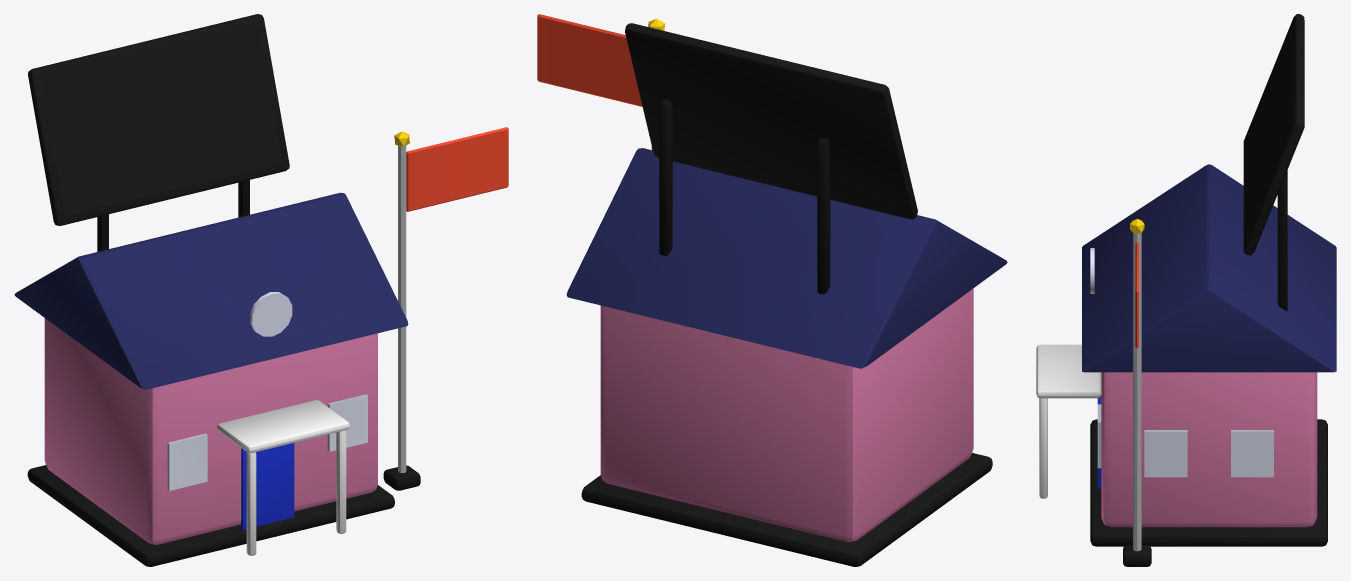
Rendered from impp-website.glb.
The picture shows the model from 3 angles, left to right: view 1: azimuth 30°, elevation 25°; view 2: azimuth 150°, elevation 25°; view 3: azimuth 270°, elevation 25°; orthographic projection. The views are drawn at different scales.
Parts seen in each view (by area): view 1: impp-website, screen, flag; view 2: impp-website, flag; view 3: impp-website, screen, flag.
Boxes of the visible parts, box(x1,y1,x2,y2) form: impp-website: box(14, 14, 420, 566); screen: box(41, 24, 282, 215); flag: box(406, 127, 508, 211); impp-website: box(566, 18, 1007, 566); flag: box(537, 14, 642, 106); impp-website: box(1036, 14, 1336, 566); screen: box(1244, 23, 1291, 242); flag: box(1135, 242, 1138, 347).
Size of the model in its own units: 6.19 by 6.32 by 4.17.
